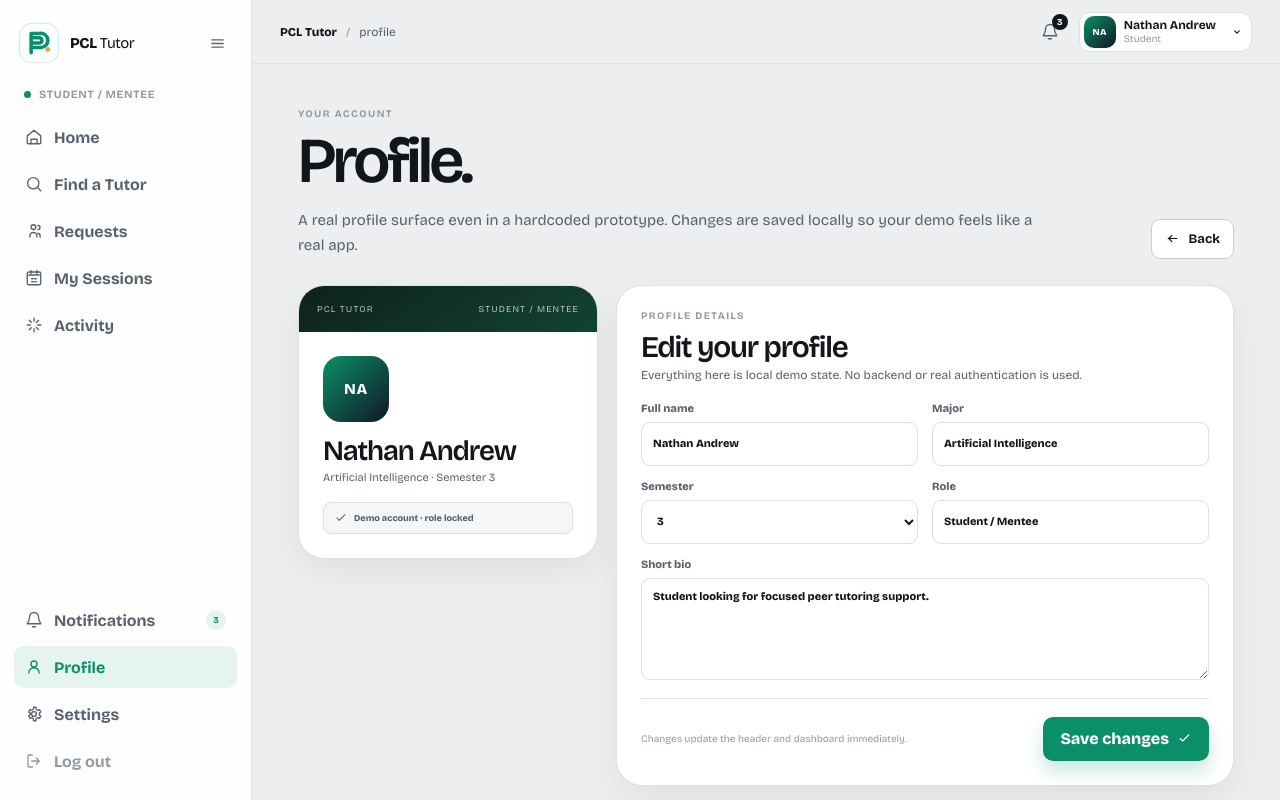
Test: profile form › does not save when Enter is pressed in a field
Replace the text in the field labelled "Full name" with "Nathan Andrew-Saved" at (780, 444), box [641, 422, 918, 466]
Then press Enter
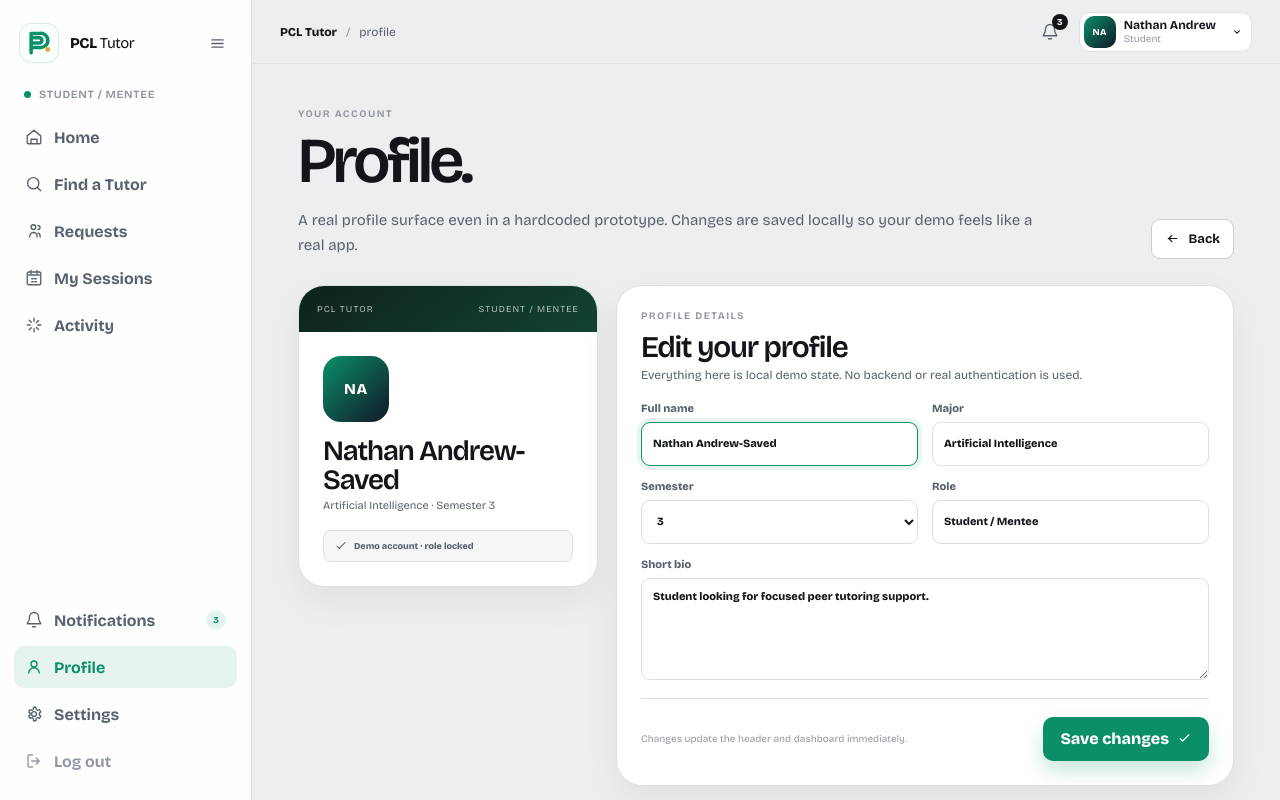
expect the text "saved locally for this demo" is not shown: met
Click the button "Save changes" at (1126, 739), box [1043, 717, 1209, 761]
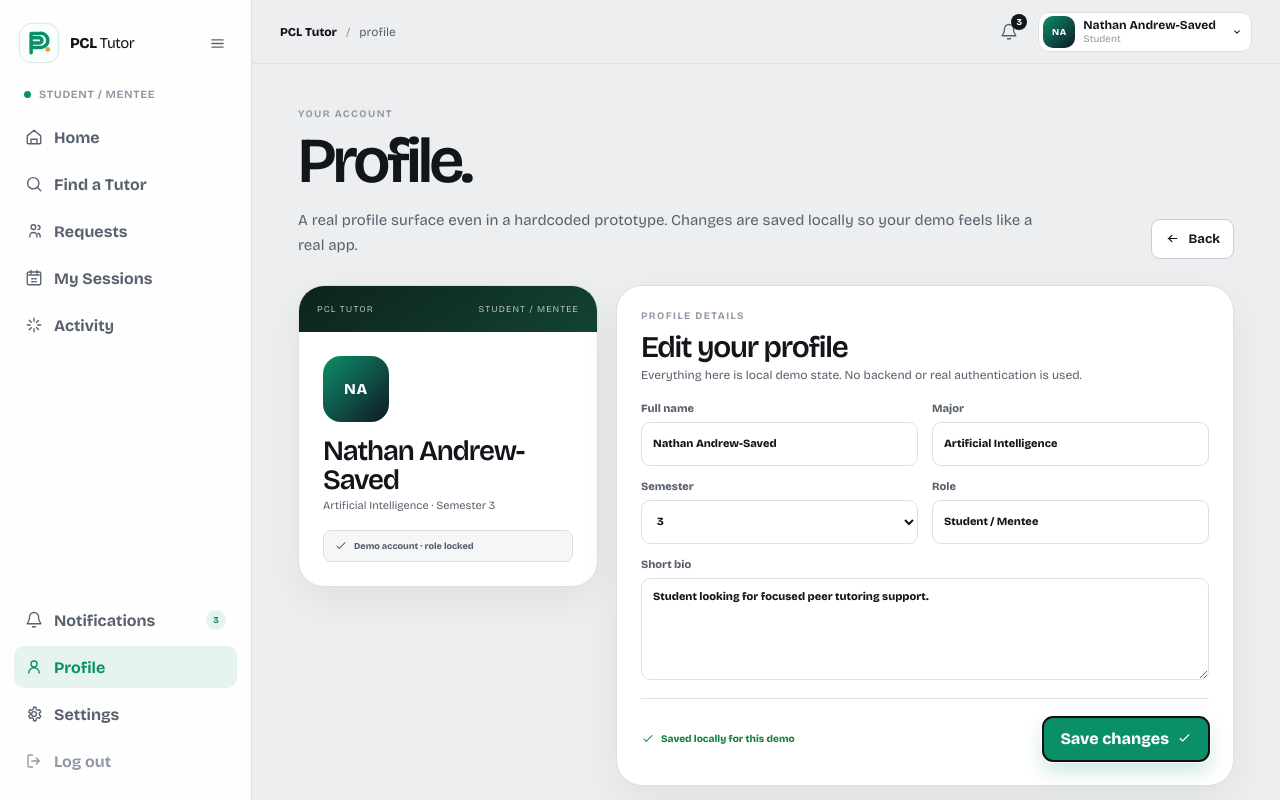
expect the text "Saved locally for this demo" is shown: met, box [641, 732, 795, 746]
